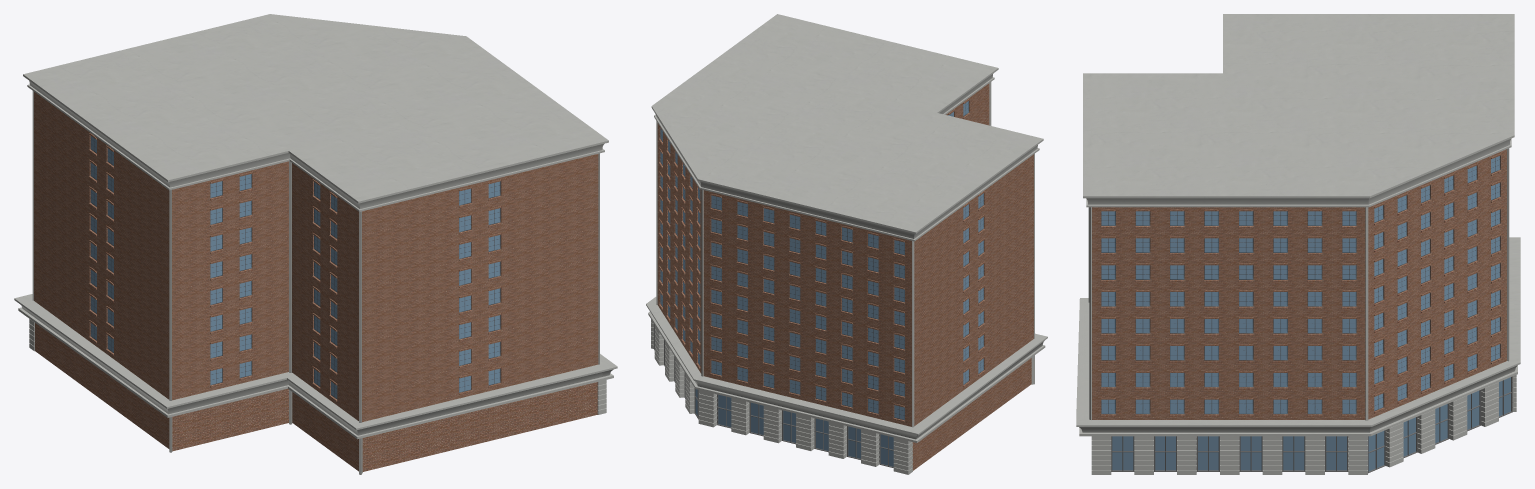
File: BrickBuilding1.glb
The picture shows the model from 3 angles, left to right: view 1: azimuth 30°, elevation 25°; view 2: azimuth 150°, elevation 25°; view 3: azimuth 270°, elevation 25°; orthographic projection. The views are drawn at different scales.
Parts seen in each view (by area): view 1: BrickBuilding; view 2: BrickBuilding; view 3: BrickBuilding.
Part boxes in pixels (x1,y1,x2,y2): BrickBuilding: (14, 14, 617, 474); BrickBuilding: (646, 14, 1047, 474); BrickBuilding: (1076, 14, 1520, 474).
Bounding box in the file's own units: 44.95 × 31.06 × 44.95.
Materials: 5 (3 with a texture image).
